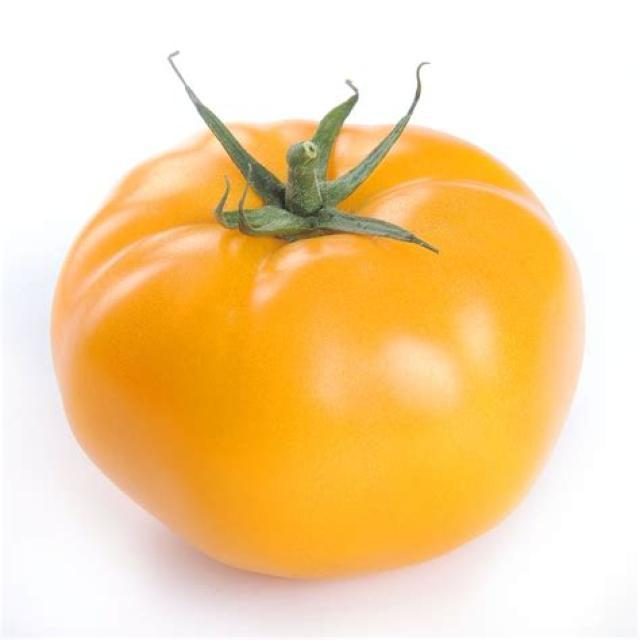Tomato: (49, 96, 588, 585)
